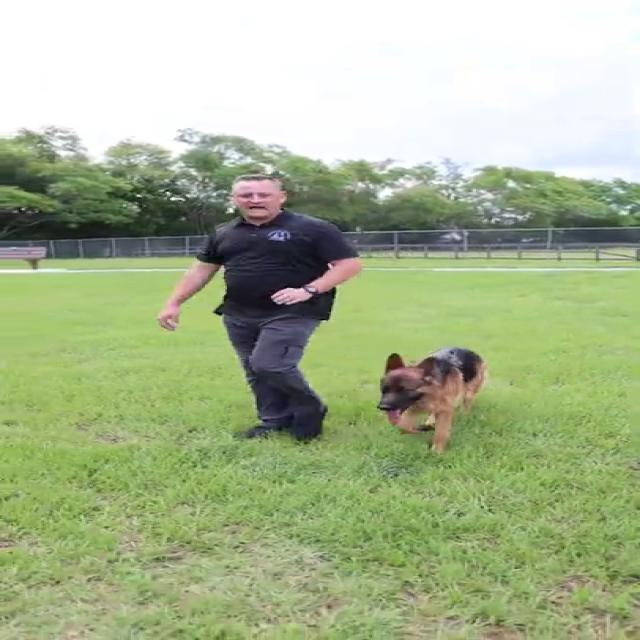Unleashed_Dog: (252, 345, 490, 453)
